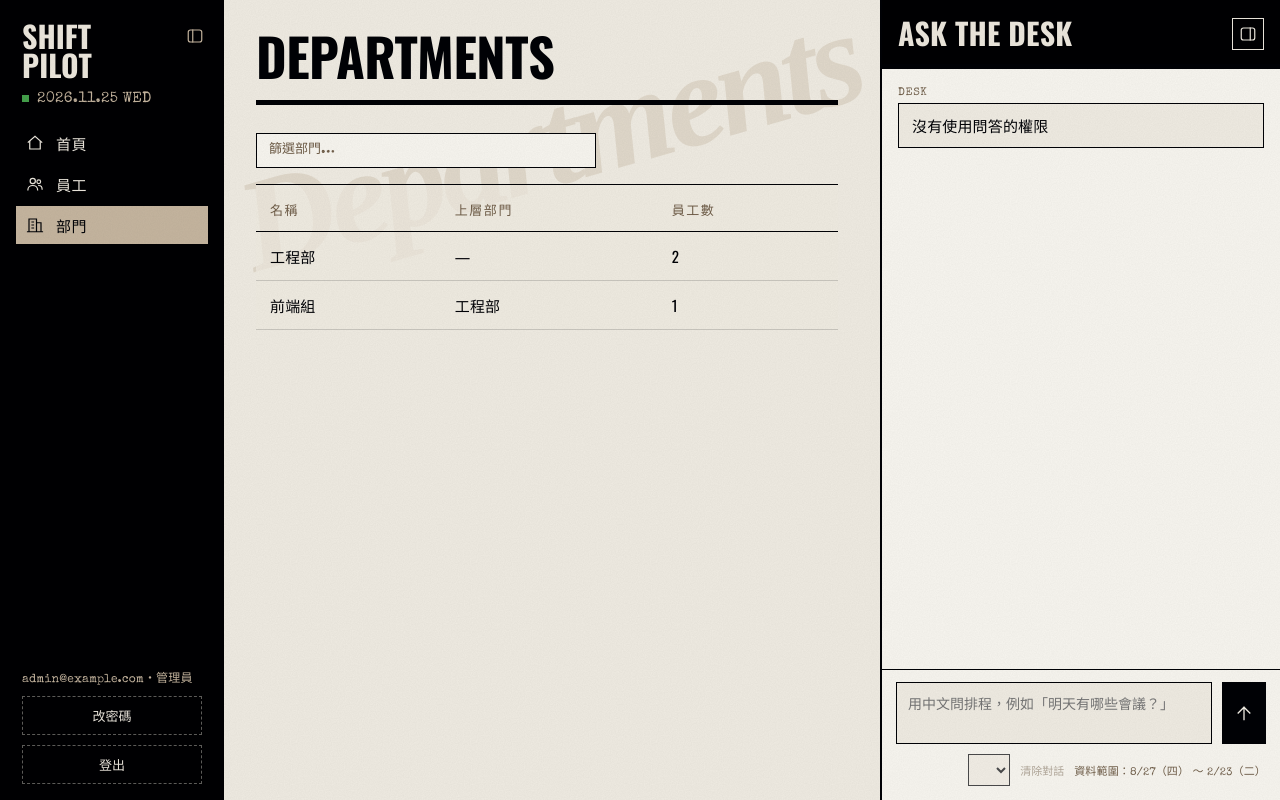
Test: testEmployeeRoleSeesNoWriteButtons
Click the 1st text "工程部". click: click(348, 256)
box: [256,232,441,281]
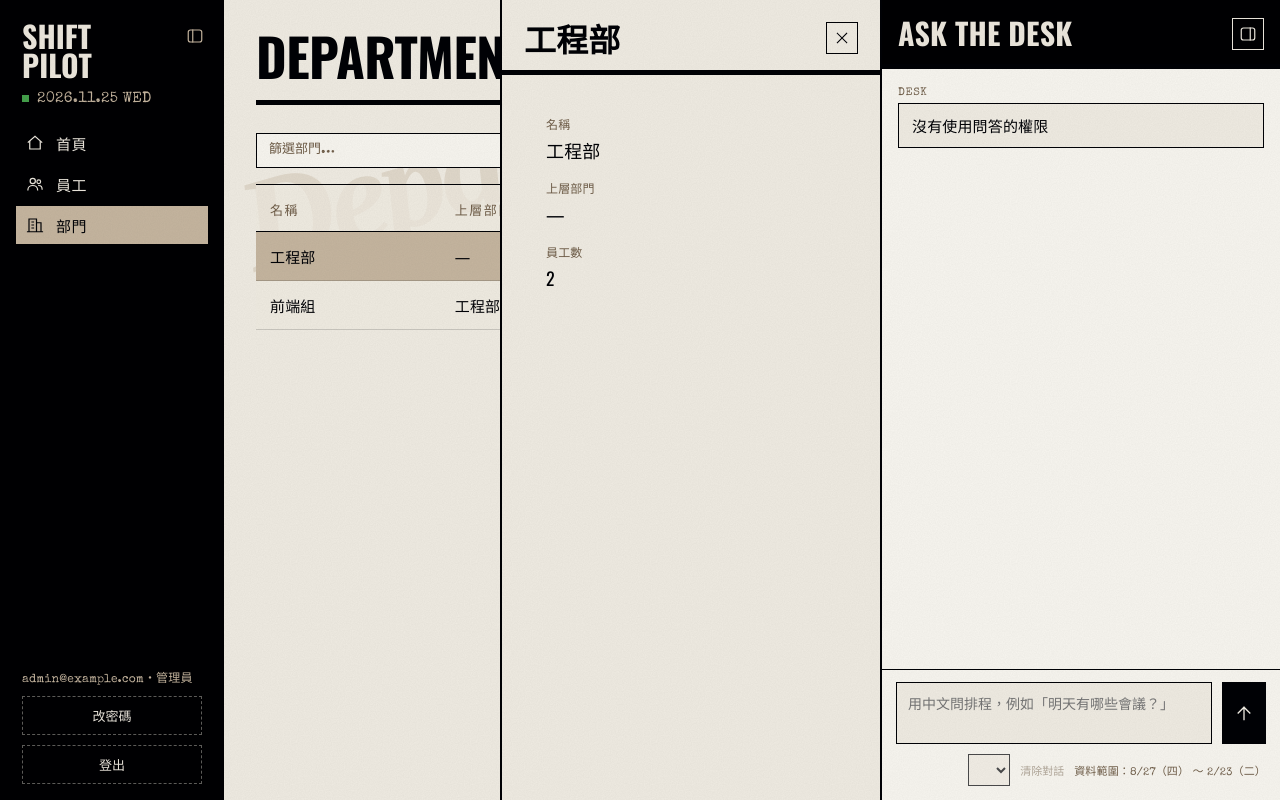
Now the text "上層部門" is shown, box [546,185,595,197]
